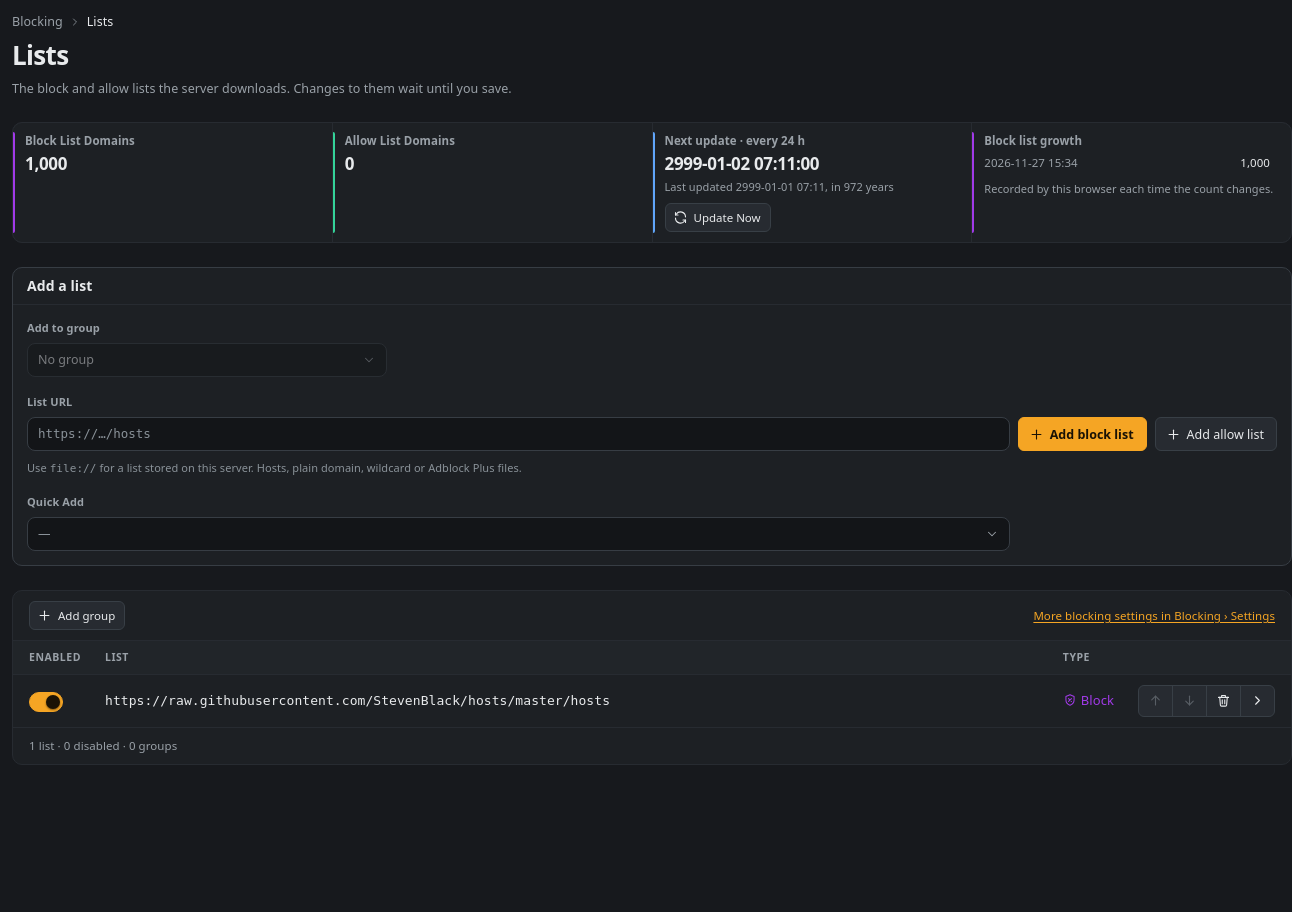
Scenario: Save and Update Now › a save that empties the lists stops there: there is nothing to update
Click the button named "Remove https://raw.githubusercontent.com/StevenBlack/hosts/m" at (1224,701), box [1207, 686, 1240, 716]
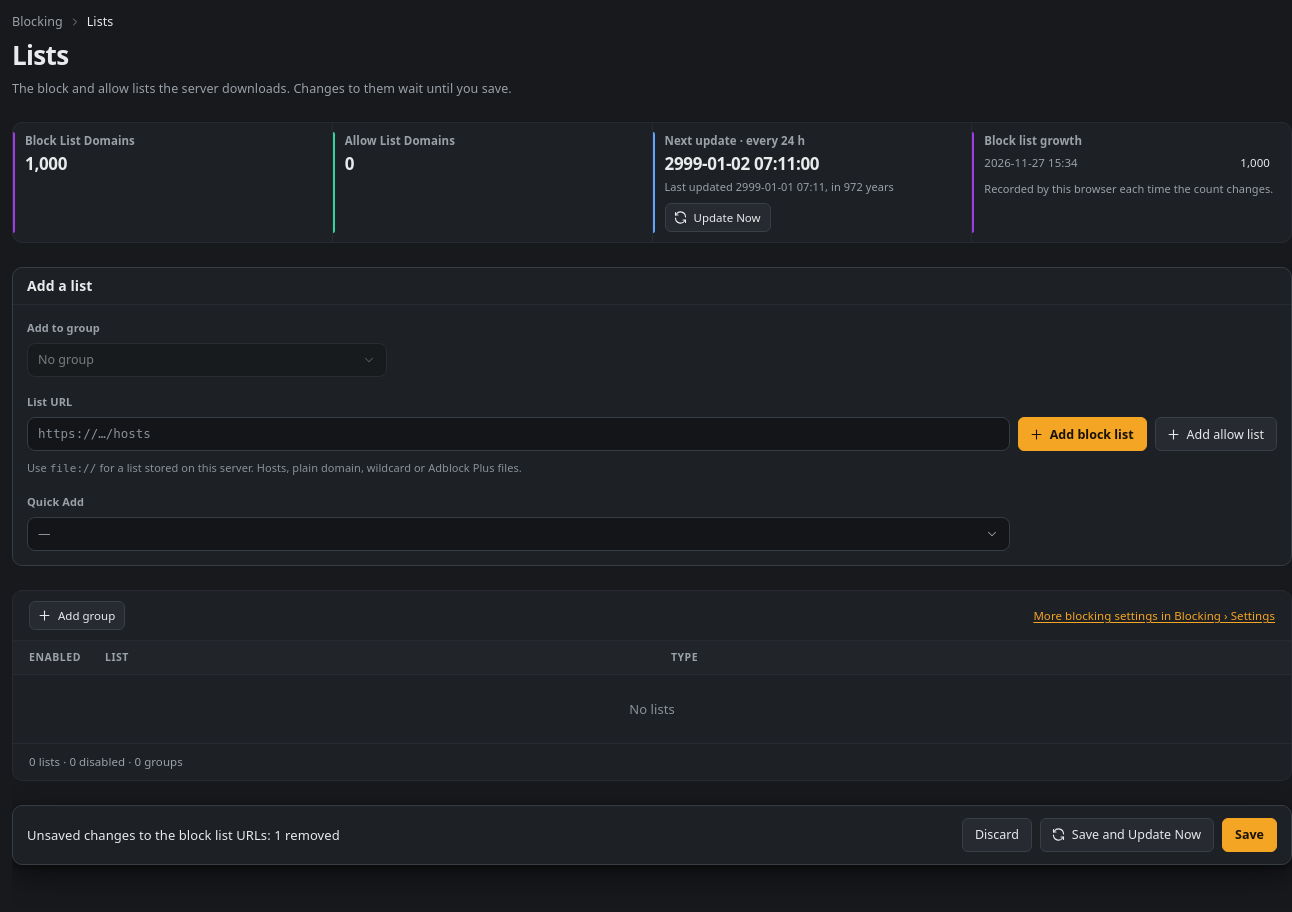
Click the button "Save and Update Now" at (1127,835), box [1040, 818, 1214, 852]
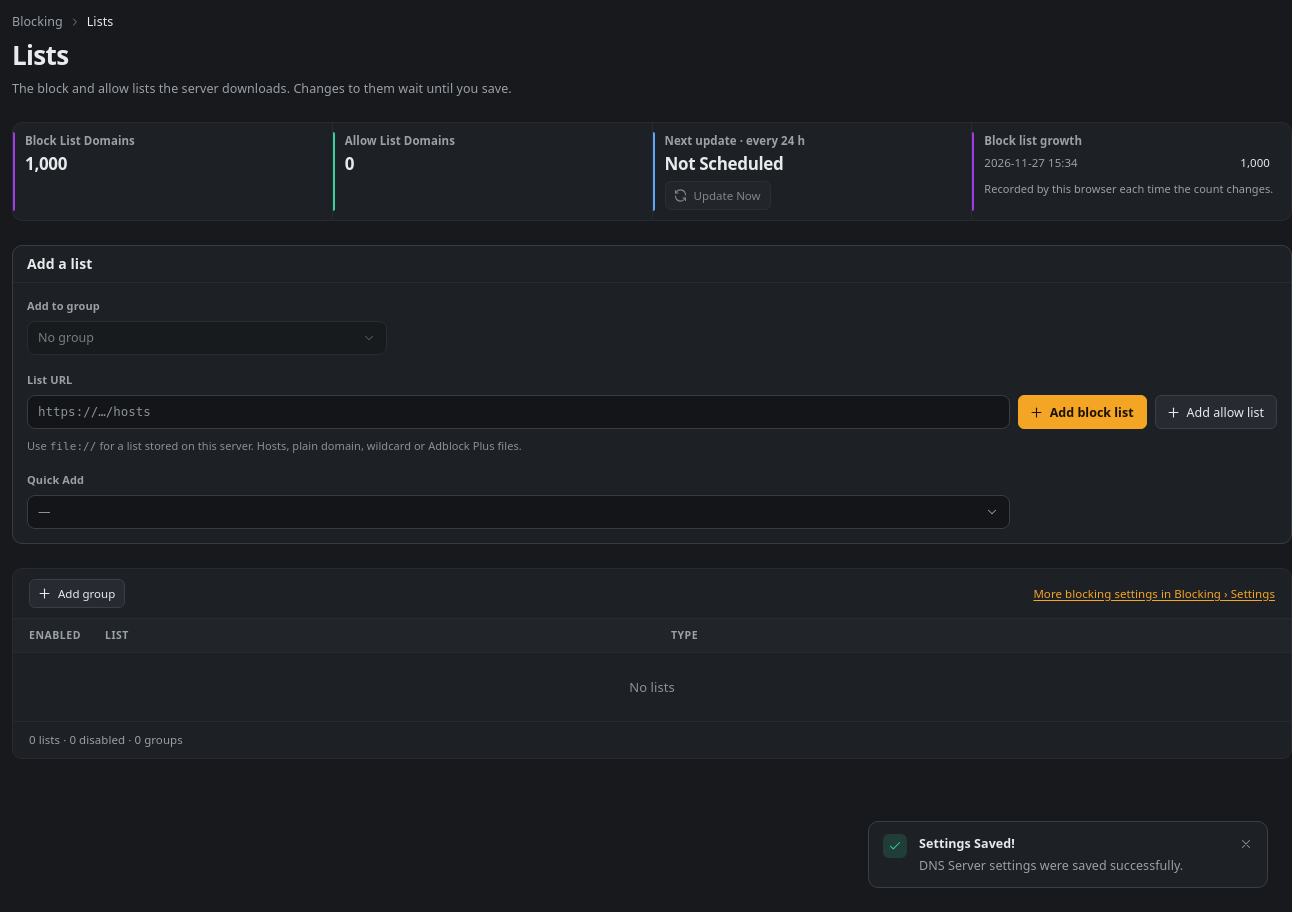
Check: the text "DNS Server settings were saved successfully." is shown, box [919, 857, 1183, 874]
